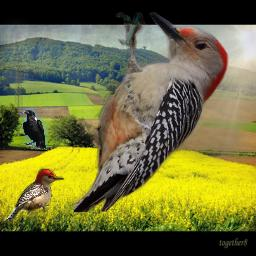Crow: (22, 109, 48, 150)
Woodpecker: (74, 12, 229, 212), (3, 168, 66, 222)
